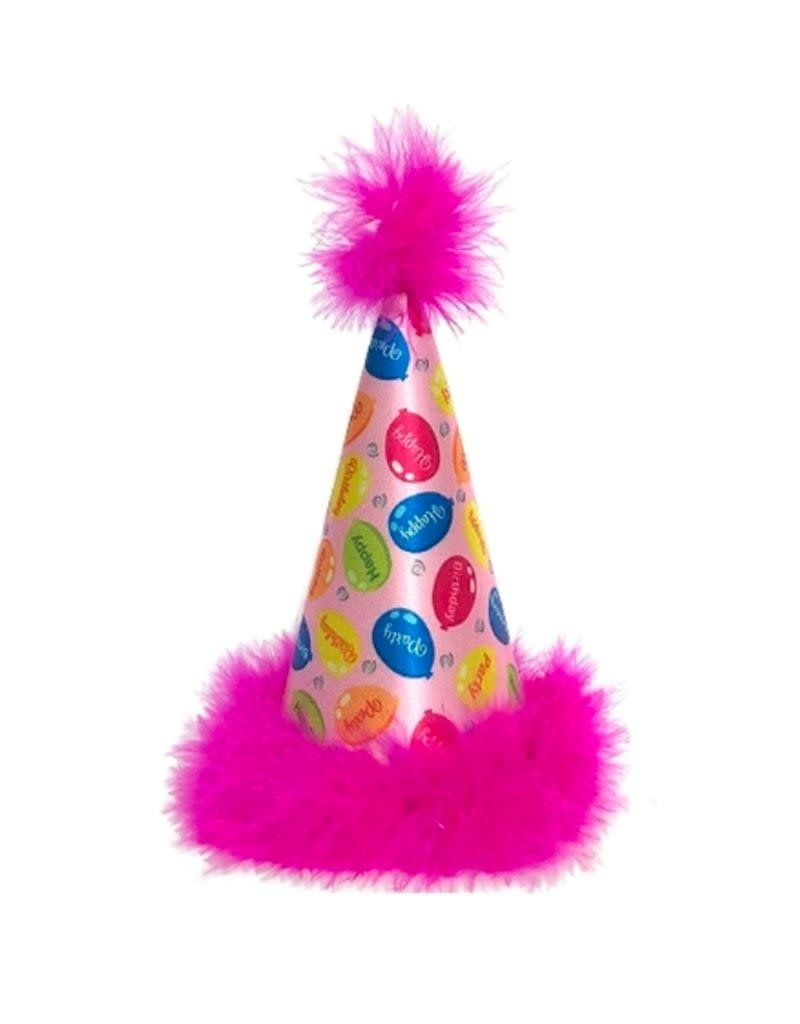cone: (284, 292, 523, 766)
